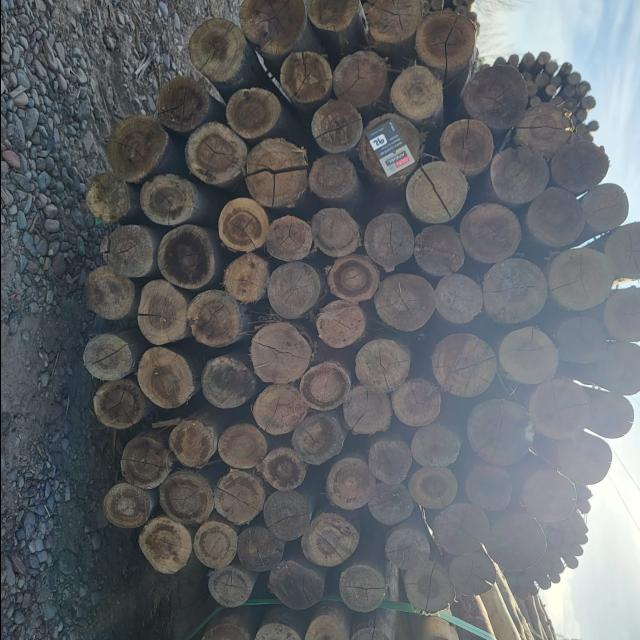package: (83, 0, 640, 609), (496, 488, 596, 618), (489, 51, 604, 142), (340, 0, 482, 36)
